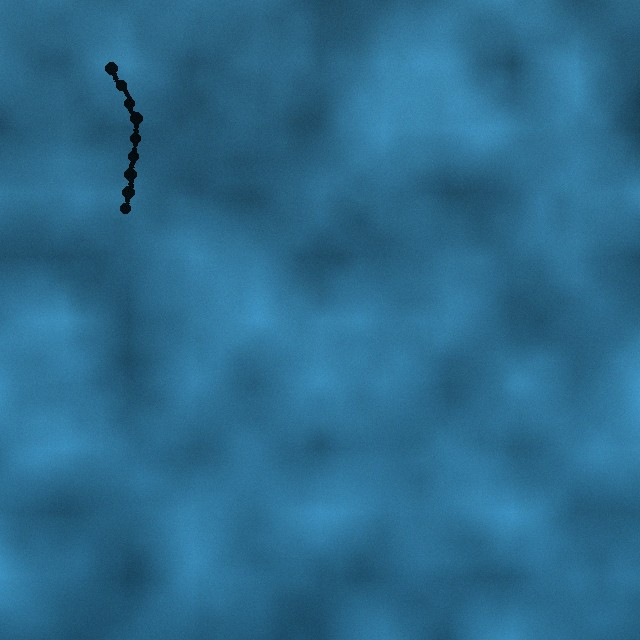crack: (104, 58, 144, 215)
